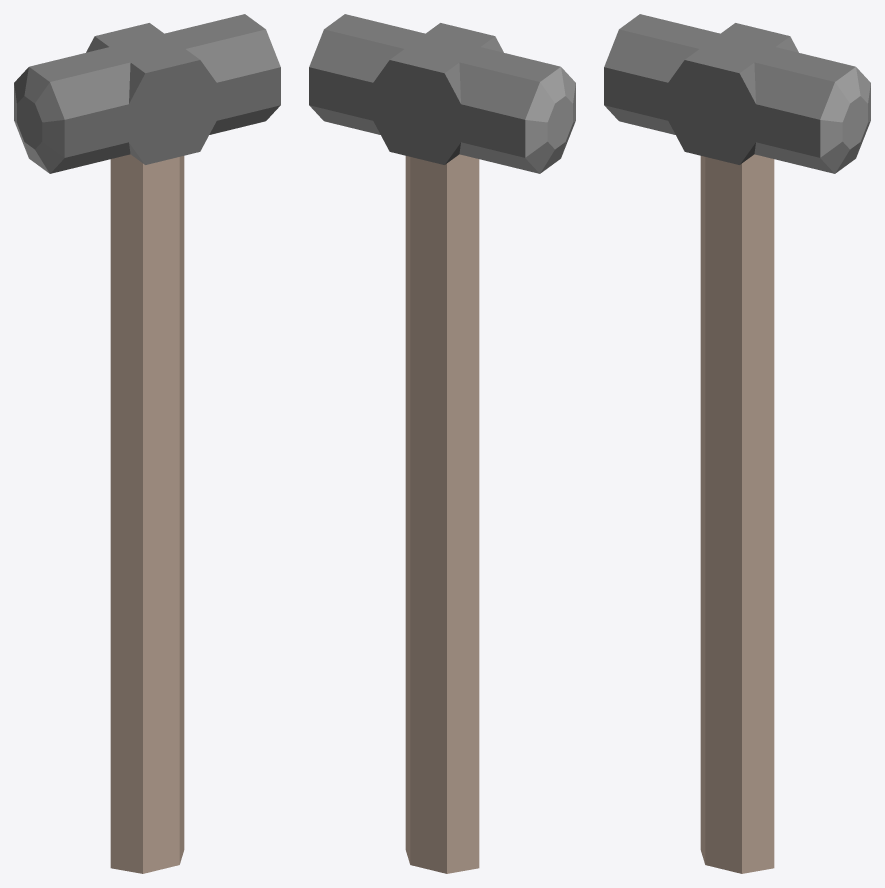
File: Sledgehammer.fbx
3 views of the same model, side by side, from view 1: azimuth 30°, elevation 25°; view 2: azimuth 150°, elevation 25°; view 3: azimuth 330°, elevation 25° (orthographic).
Parts seen in each view (by area): view 1: Sledgehammer; view 2: Sledgehammer; view 3: Sledgehammer.
Part boxes in pixels (x1=…): Sledgehammer: x1=14, y1=14, x2=280, y2=873; Sledgehammer: x1=309, y1=14, x2=575, y2=873; Sledgehammer: x1=604, y1=14, x2=870, y2=873.
Bounding box in the file's own units: 0.12 × 0.3947 × 0.0447.
